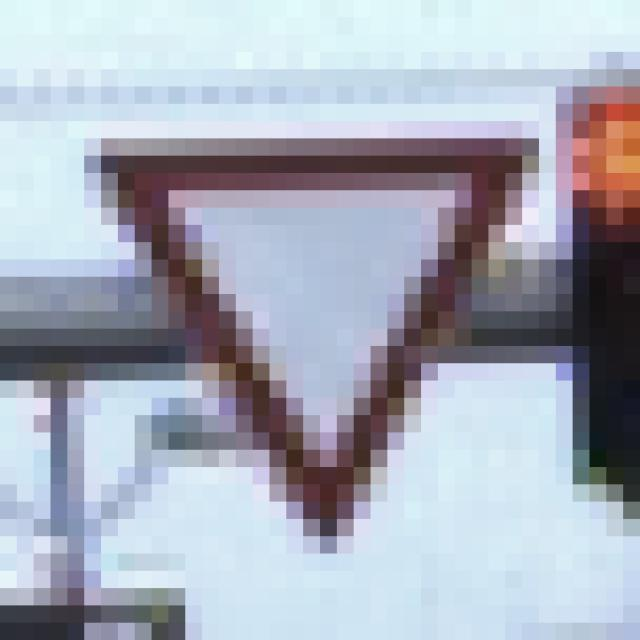Give Way: (102, 105, 557, 554)
